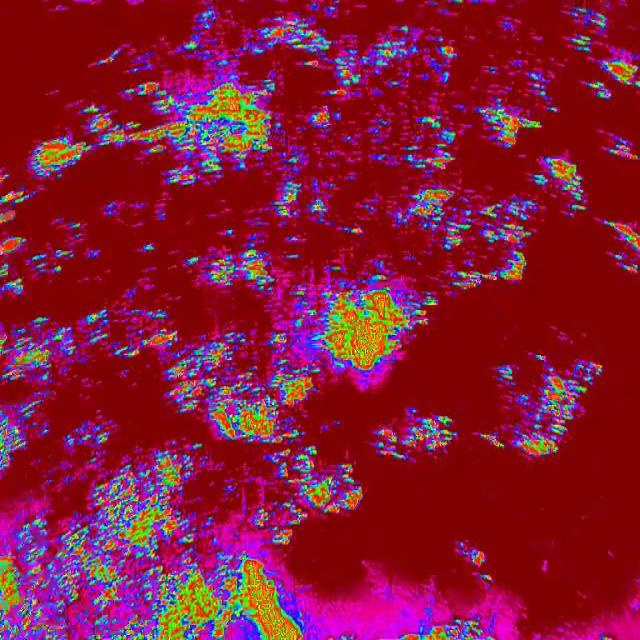fire: (0, 131, 305, 640), (88, 0, 640, 131), (306, 130, 534, 290), (474, 357, 604, 462), (306, 288, 432, 382), (360, 402, 459, 463), (304, 447, 362, 523), (533, 158, 591, 218), (392, 611, 500, 640), (599, 215, 640, 280), (456, 538, 500, 588)
